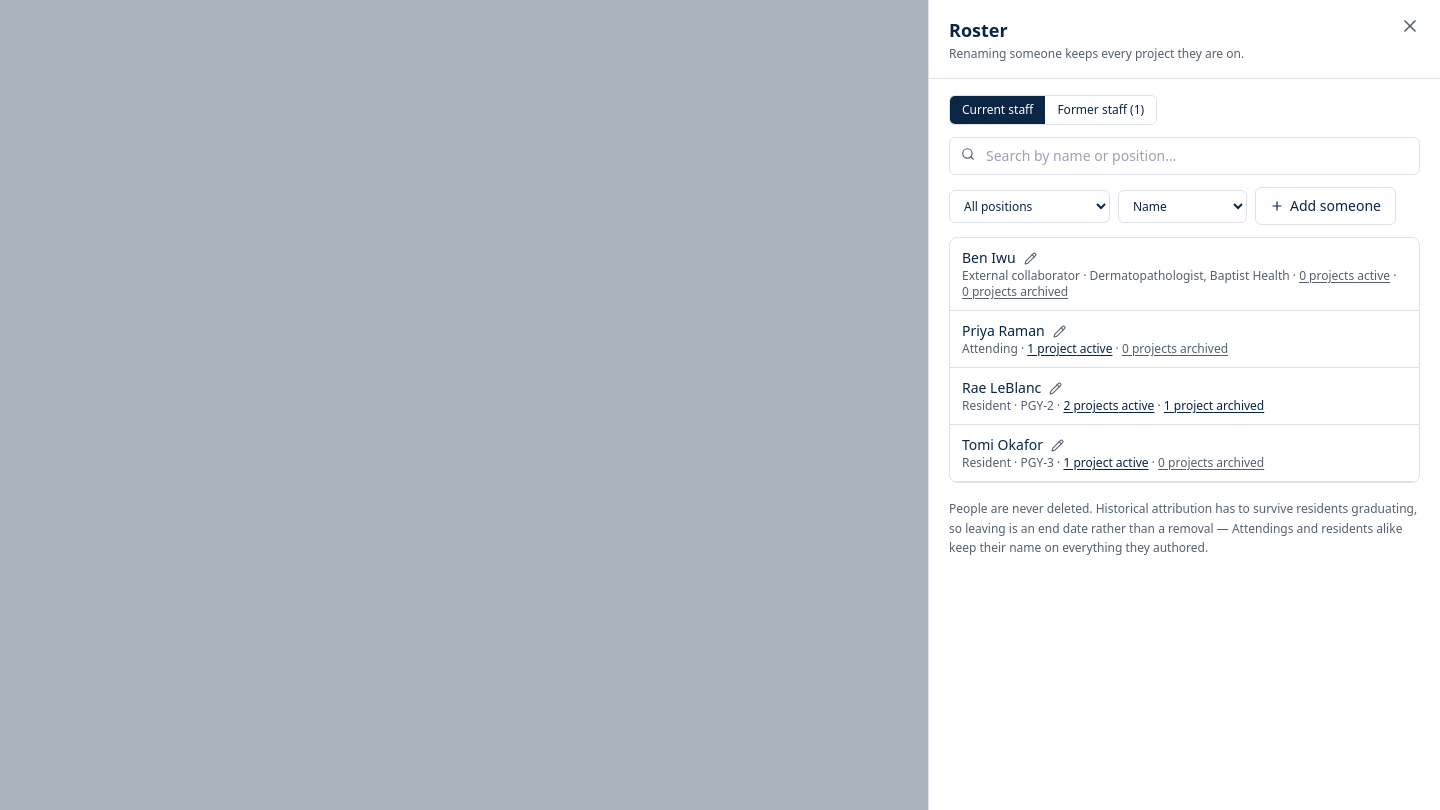
Test: getting from a person to their work › offers the pencil beside the name rather than across the row
This screenshot has width=1440, height=810.
Step 1. Click the button named "Edit Rae LeBlanc" → (1056, 388), box [1047,380,1064,396]
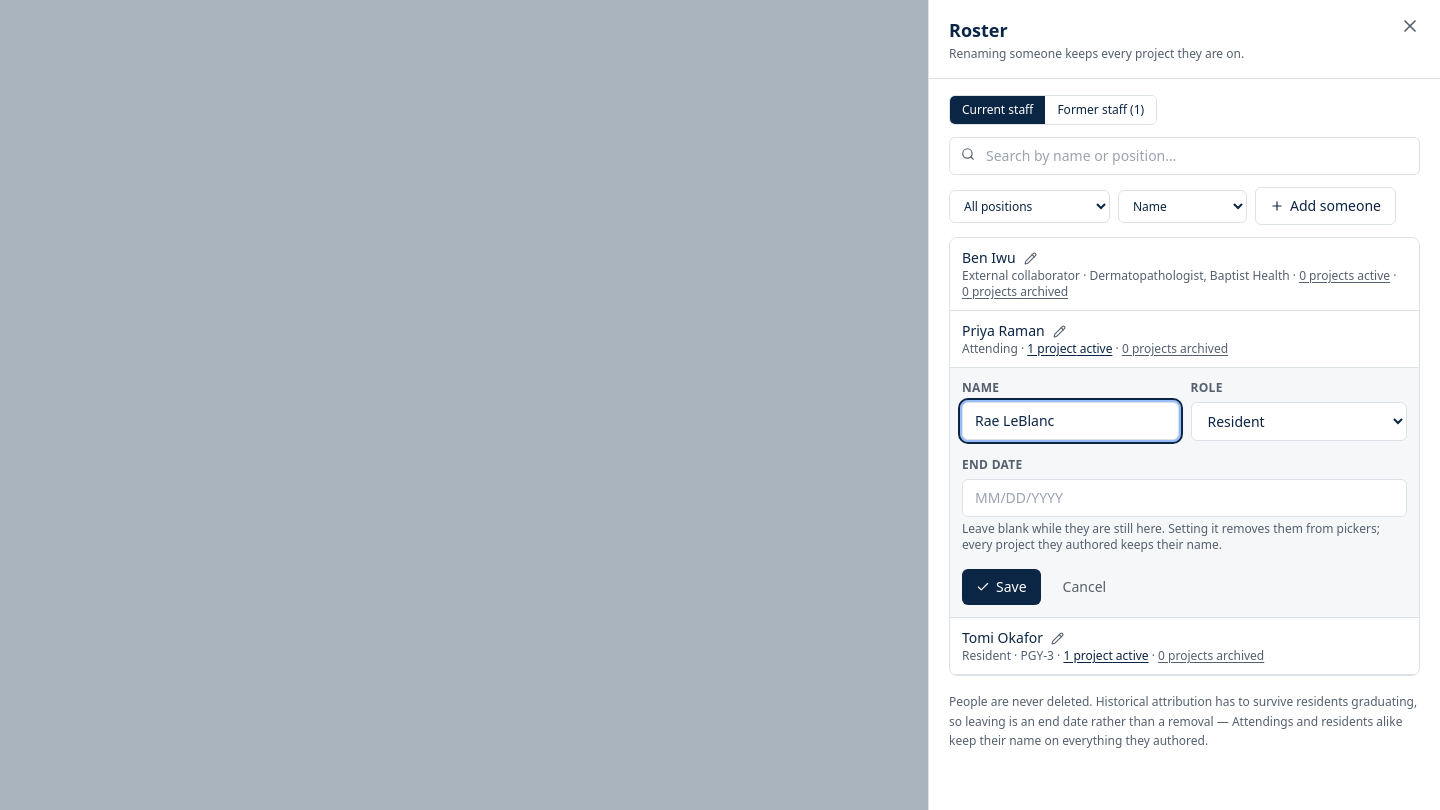
Now the field showing "Rae LeBlanc" is shown, box [962,402,1178,440]
